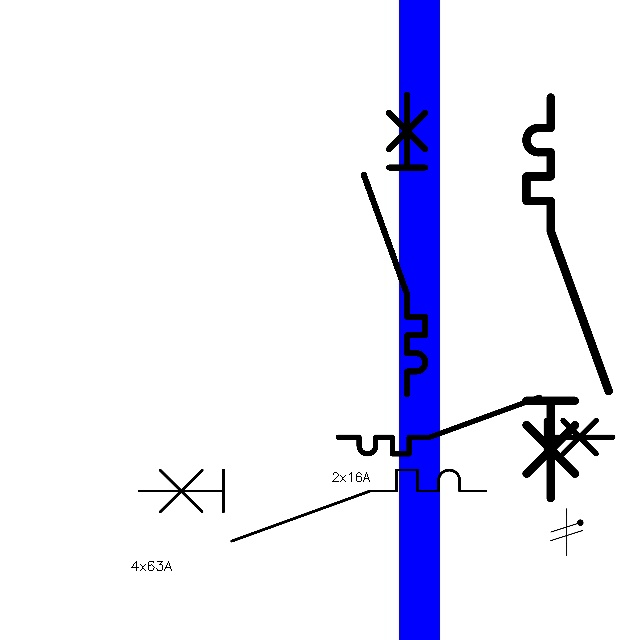interruptor_termomagnetico: (516, 87, 619, 508), (130, 461, 495, 550), (356, 87, 433, 402), (331, 390, 620, 461)
